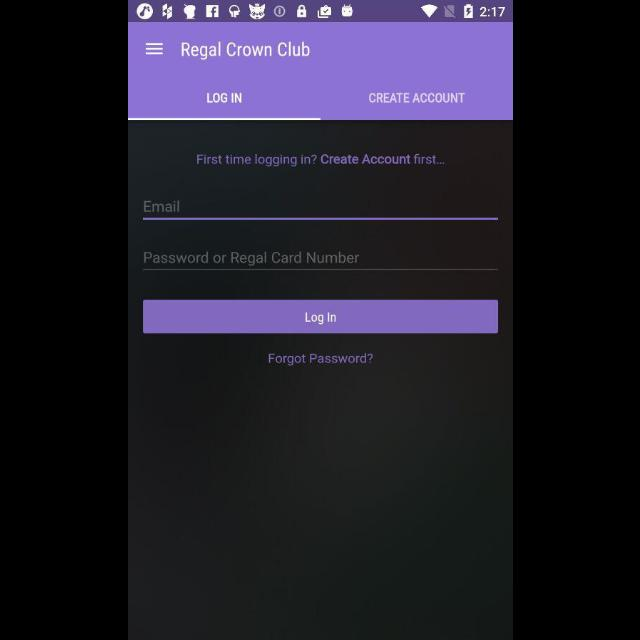icon: (146, 44, 162, 56)
input: (142, 202, 498, 220), (142, 252, 498, 270)
text: (197, 154, 443, 168), (144, 252, 358, 266), (181, 42, 309, 60), (268, 353, 372, 365), (368, 94, 464, 102), (143, 202, 179, 212), (207, 94, 241, 102)
textbutton: (143, 300, 497, 334)
uppertaskbar: (128, 1, 512, 23)
